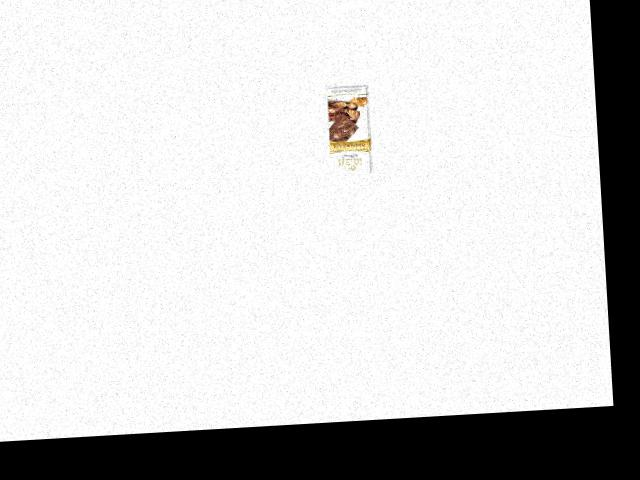chocolate: (317, 85, 380, 182)
